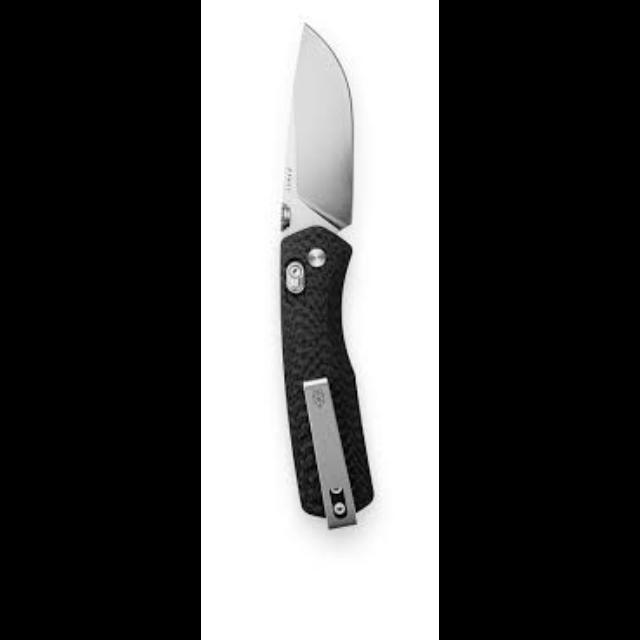Knife: (278, 21, 374, 528)
